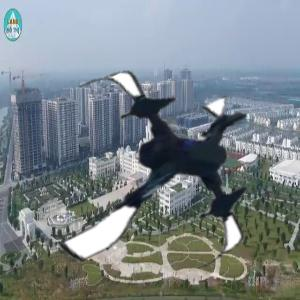drone: (35, 58, 270, 293)
